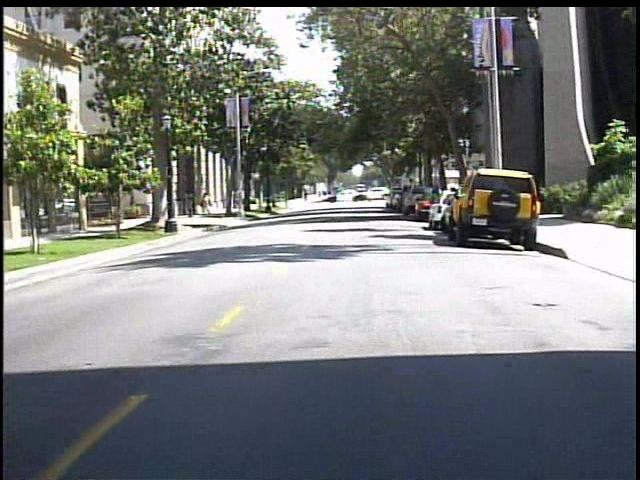person: (199, 189, 219, 221), (179, 187, 196, 221)
